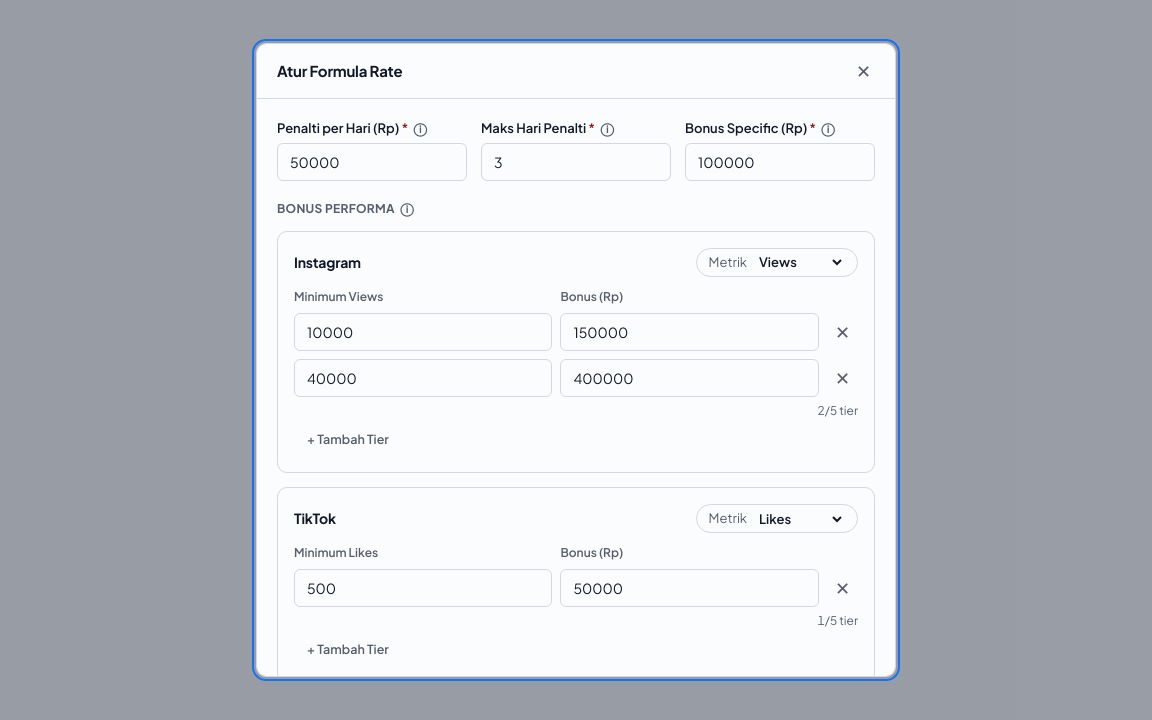
Test: RateFormulaModal › accepts 0 for an amount
Step 1. Replace the text in the field labelled "Bonus Specific (Rp)*" with "0" → (780, 162), box [685,143,875,181]
(page scrolled)
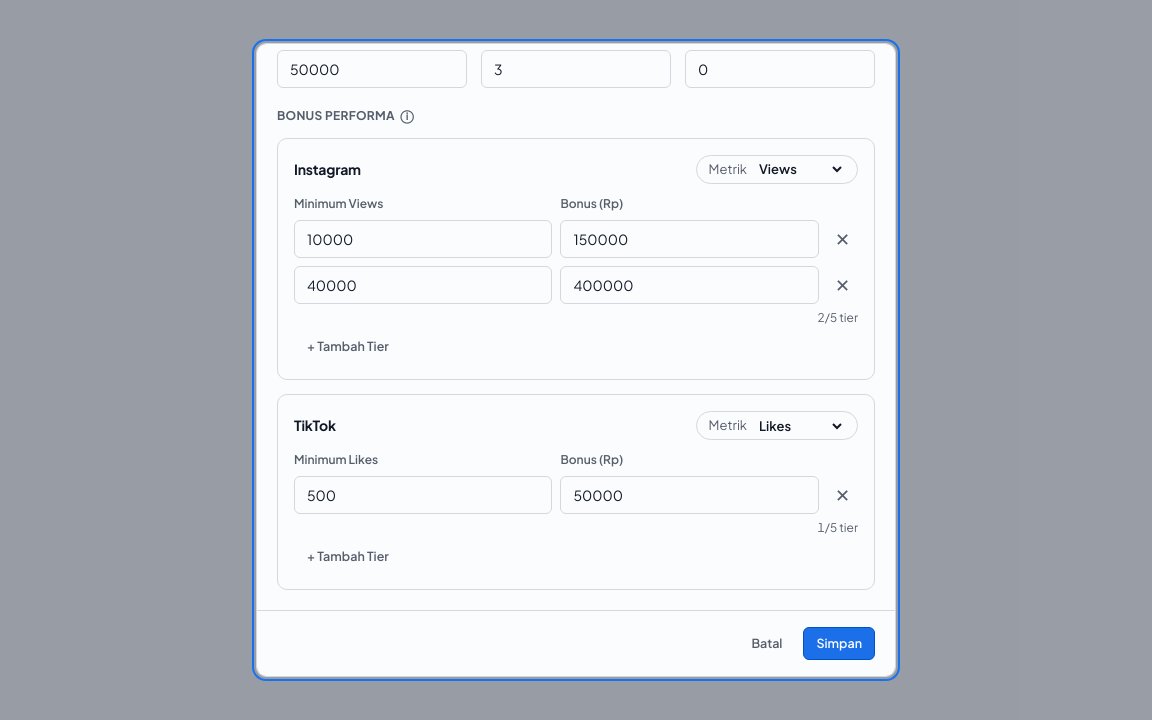
Now the button "Simpan" is enabled, box [803,627,875,660]
